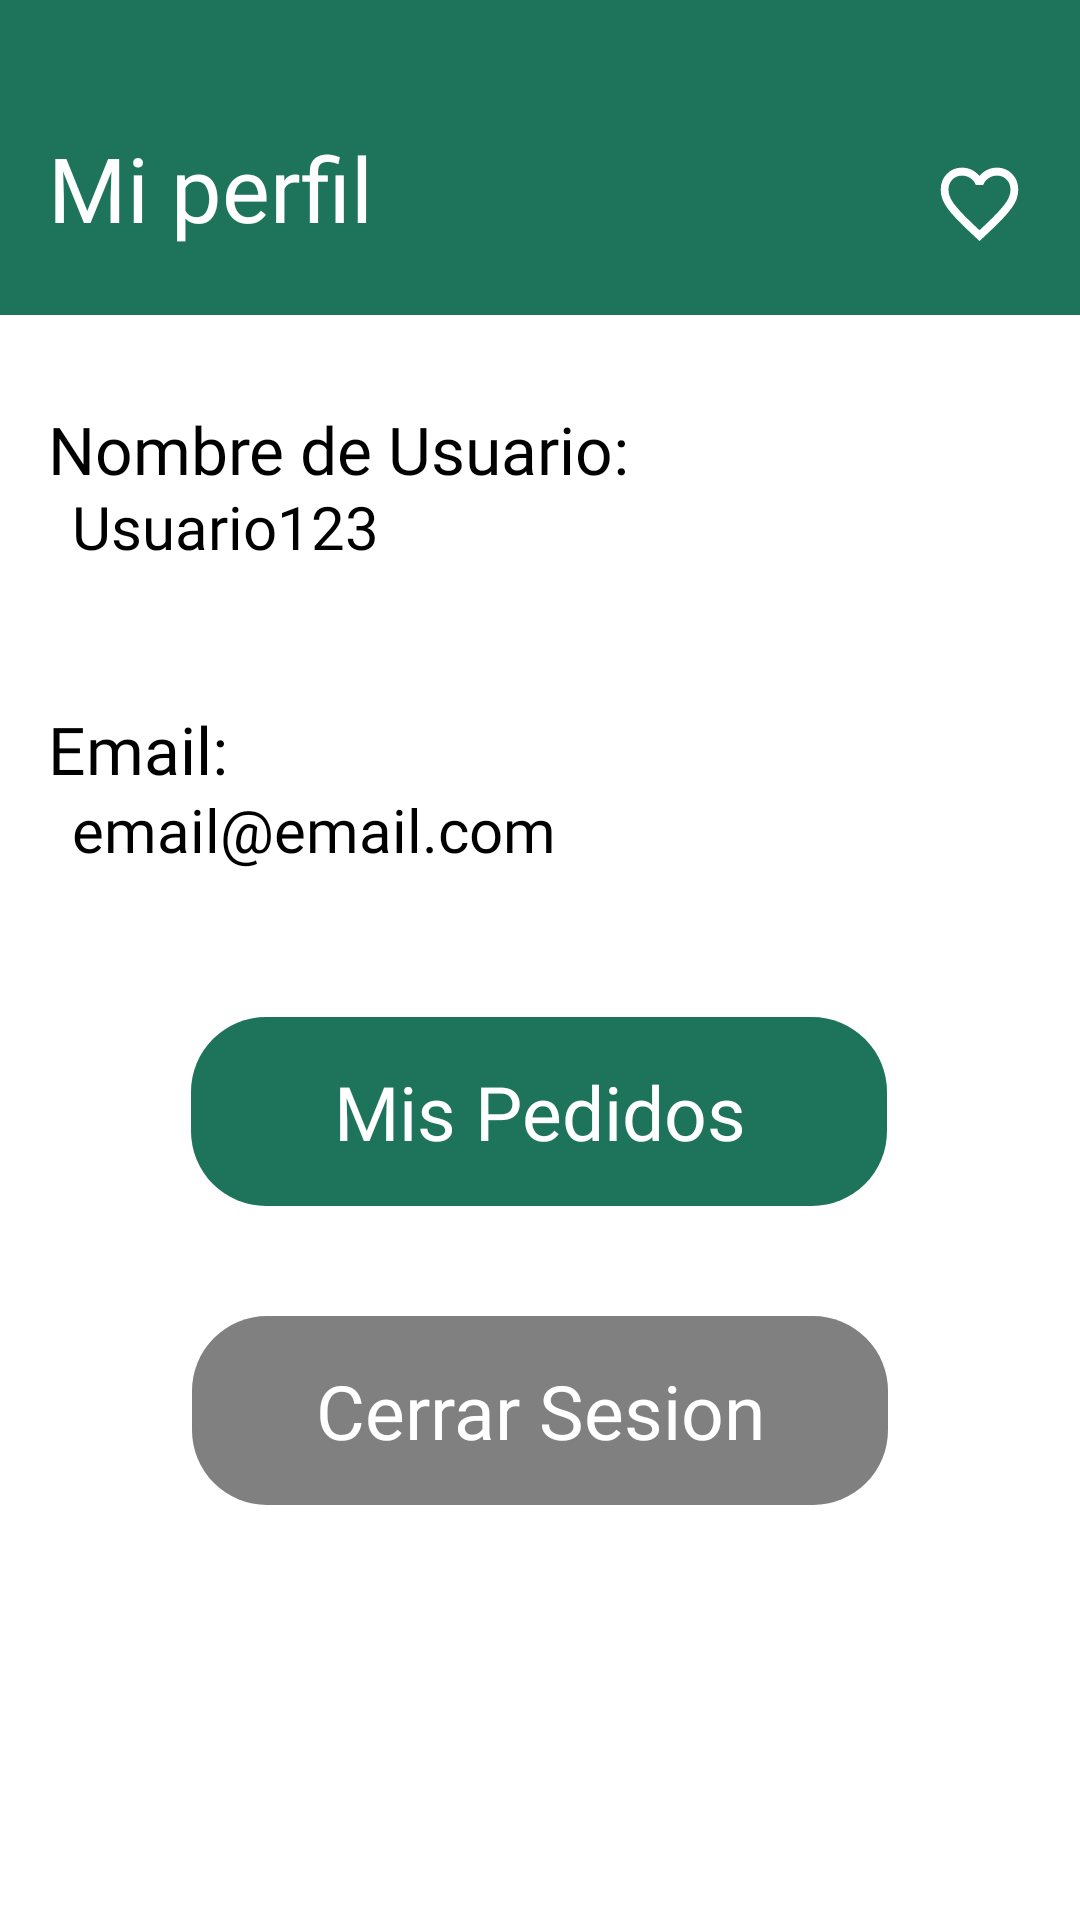

Screen size 1080px x 1920px. Icon name, then its center in pixels as (x,y):
favorite: (979,204)
